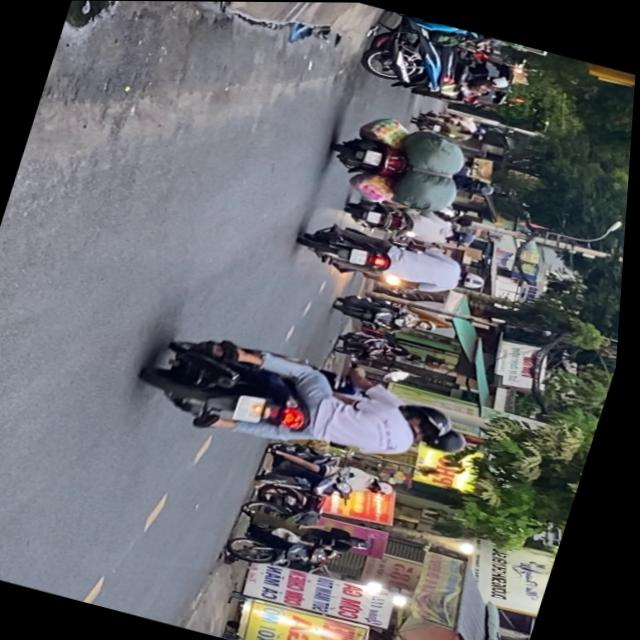helmet: (399, 400, 469, 447), (417, 420, 476, 458), (467, 177, 499, 198), (460, 270, 490, 292), (373, 479, 401, 498)
licenseplate: (131, 317, 493, 495), (318, 105, 513, 227), (293, 215, 499, 311), (257, 437, 408, 517)
nohelmet: (237, 393, 271, 425), (351, 247, 371, 264), (364, 149, 384, 165)
